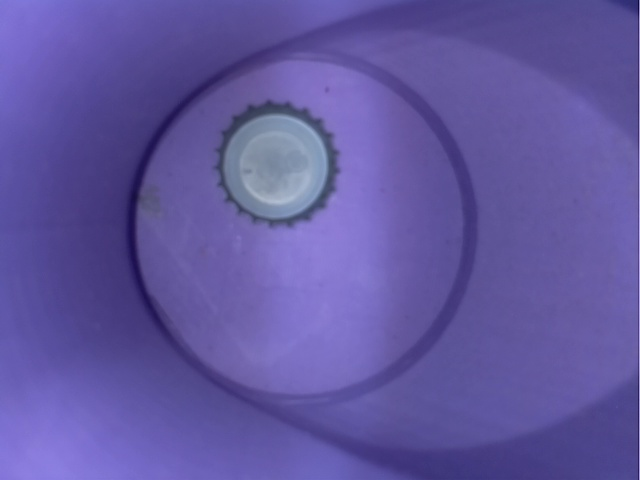capsule: (198, 90, 359, 234)
